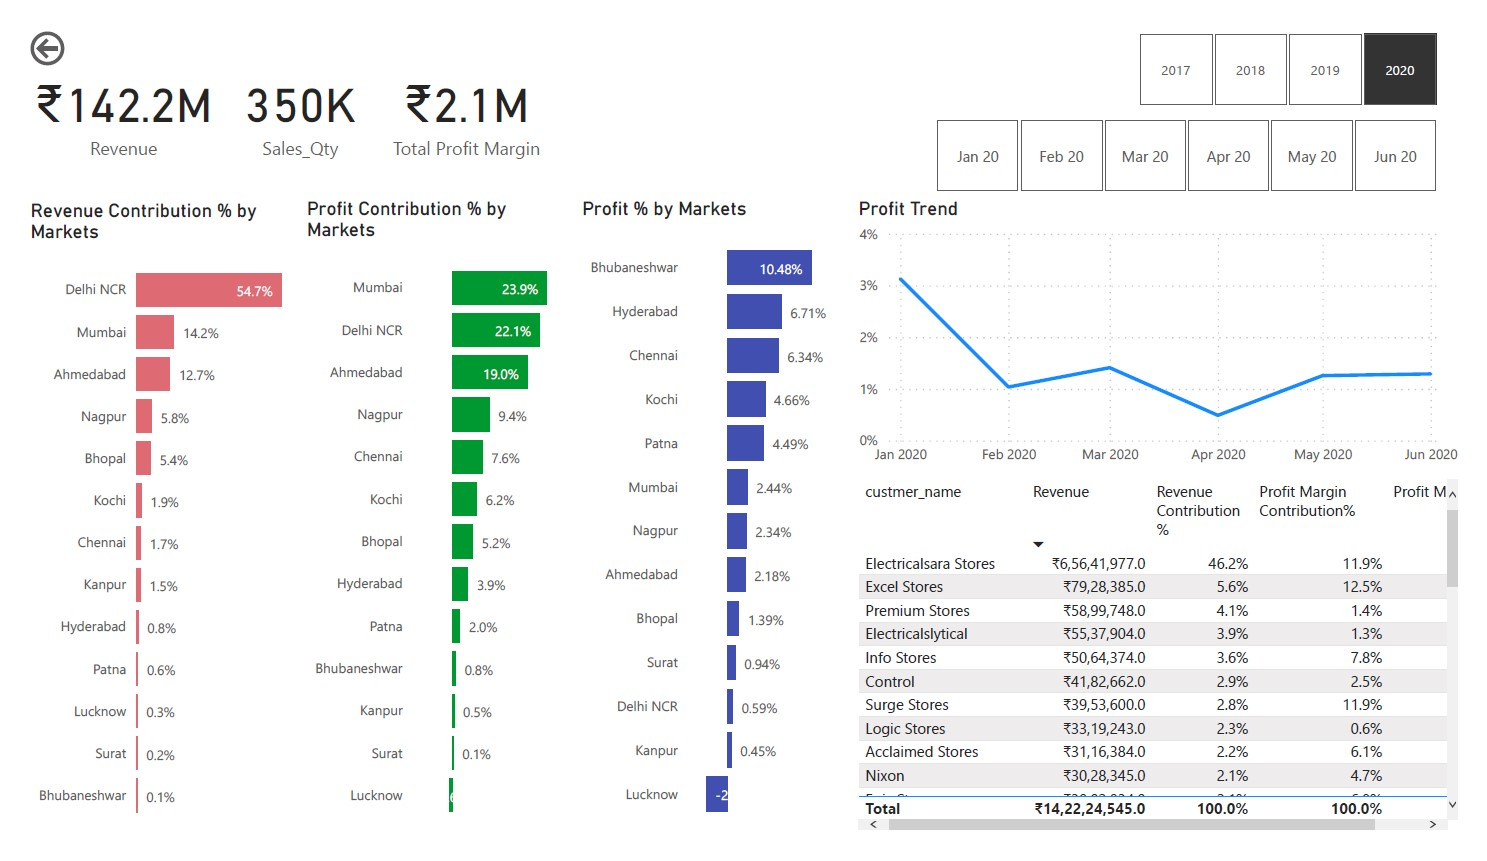

The page's visual inventory and layout, read from the dashboard file:
{"tool":"powerbi","page":{"name":"Profit Analysis","canvas":[1280,720],"ordinal":1},"visuals":[{"type":"card","fields":{"Values":["BaseMeasures.Revenue"]},"box":[0,0,175.6,153.7],"z":0},{"type":"card","fields":{"Values":["BaseMeasures.Sales Qty"]},"box":[175.6,0,138.6,153.7],"z":1000},{"type":"barChart","title":"Profit % by Markets","fields":{"Category":["sales markets.markets_name"],"Y":["BaseMeasures.Profit_Margin%"]},"box":[491.3,152.3,245.6,568.1],"z":2000},{"type":"barChart","title":"Profit Contribution % by Markets","fields":{"Y":["BaseMeasures.Profit_Margin_Contribution%"],"Category":["sales markets.markets_name"]},"box":[245.6,152.3,245.6,568.1],"z":4000},{"type":"slicer","fields":{"Values":["sales date.year"]},"box":[966,0,314.2,76.8],"z":5000},{"type":"slicer","fields":{"Values":["sales date.cy_date"]},"box":[786.3,76.8,494,76.8],"z":6000},{"type":"tableEx","fields":{"Values":["sales customers.custmer_name","BaseMeasures.Revenue","BaseMeasures.Revenue_Contribution%","BaseMeasures.Profit_Margin_Contribution%","BaseMeasures.Profit_Margin%"]},"box":[736.9,399.3,543.4,321.1],"z":7000},{"type":"lineChart","title":"Profit Trend","fields":{"Category":["sales date.cy_date"],"Y":["BaseMeasures.Profit Margin%"]},"box":[736.9,152.3,543.4,247],"z":9000},{"type":"card","fields":{"Values":["BaseMeasures.Total_Profit_Margin"]},"box":[314.2,0,157.8,153.7],"z":10000},{"type":"barChart","title":"Revenue Contribution % by Markets","fields":{"Y":["BaseMeasures.Revenue_Contribution%"],"Category":["sales markets.markets_name"]},"box":[0,153.7,245.6,566.7],"z":10001},{"type":"actionButton","box":[0,0,100,40],"z":10002}]}

Visuals, with their boxes in screenshot pixels (x1, y1, x2, y2), scaled from the page's 1280x720 canvas onto the 1487x861 screenshot:
card - BaseMeasures.Revenue: {"left": 0, "top": 0, "right": 204, "bottom": 184}
card - BaseMeasures.Sales Qty: {"left": 204, "top": 0, "right": 365, "bottom": 184}
"Profit % by Markets" barChart: {"left": 571, "top": 182, "right": 856, "bottom": 860}
"Profit Contribution % by Markets" barChart: {"left": 285, "top": 182, "right": 571, "bottom": 860}
slicer - sales date.year: {"left": 1122, "top": 0, "right": 1486, "bottom": 92}
slicer - sales date.cy_date: {"left": 913, "top": 92, "right": 1486, "bottom": 184}
tableEx - sales customers.custmer_name x BaseMeasures.Revenue: {"left": 856, "top": 477, "right": 1486, "bottom": 860}
"Profit Trend" lineChart: {"left": 856, "top": 182, "right": 1486, "bottom": 477}
card - BaseMeasures.Total_Profit_Margin: {"left": 365, "top": 0, "right": 548, "bottom": 184}
"Revenue Contribution % by Markets" barChart: {"left": 0, "top": 184, "right": 285, "bottom": 860}
actionButton: {"left": 0, "top": 0, "right": 116, "bottom": 48}
